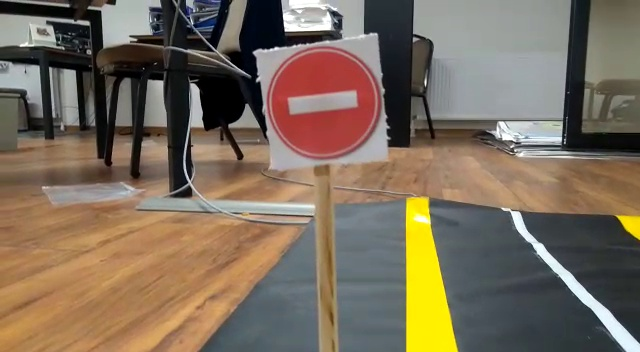girisi_olmayan_yol: (265, 43, 385, 160)
